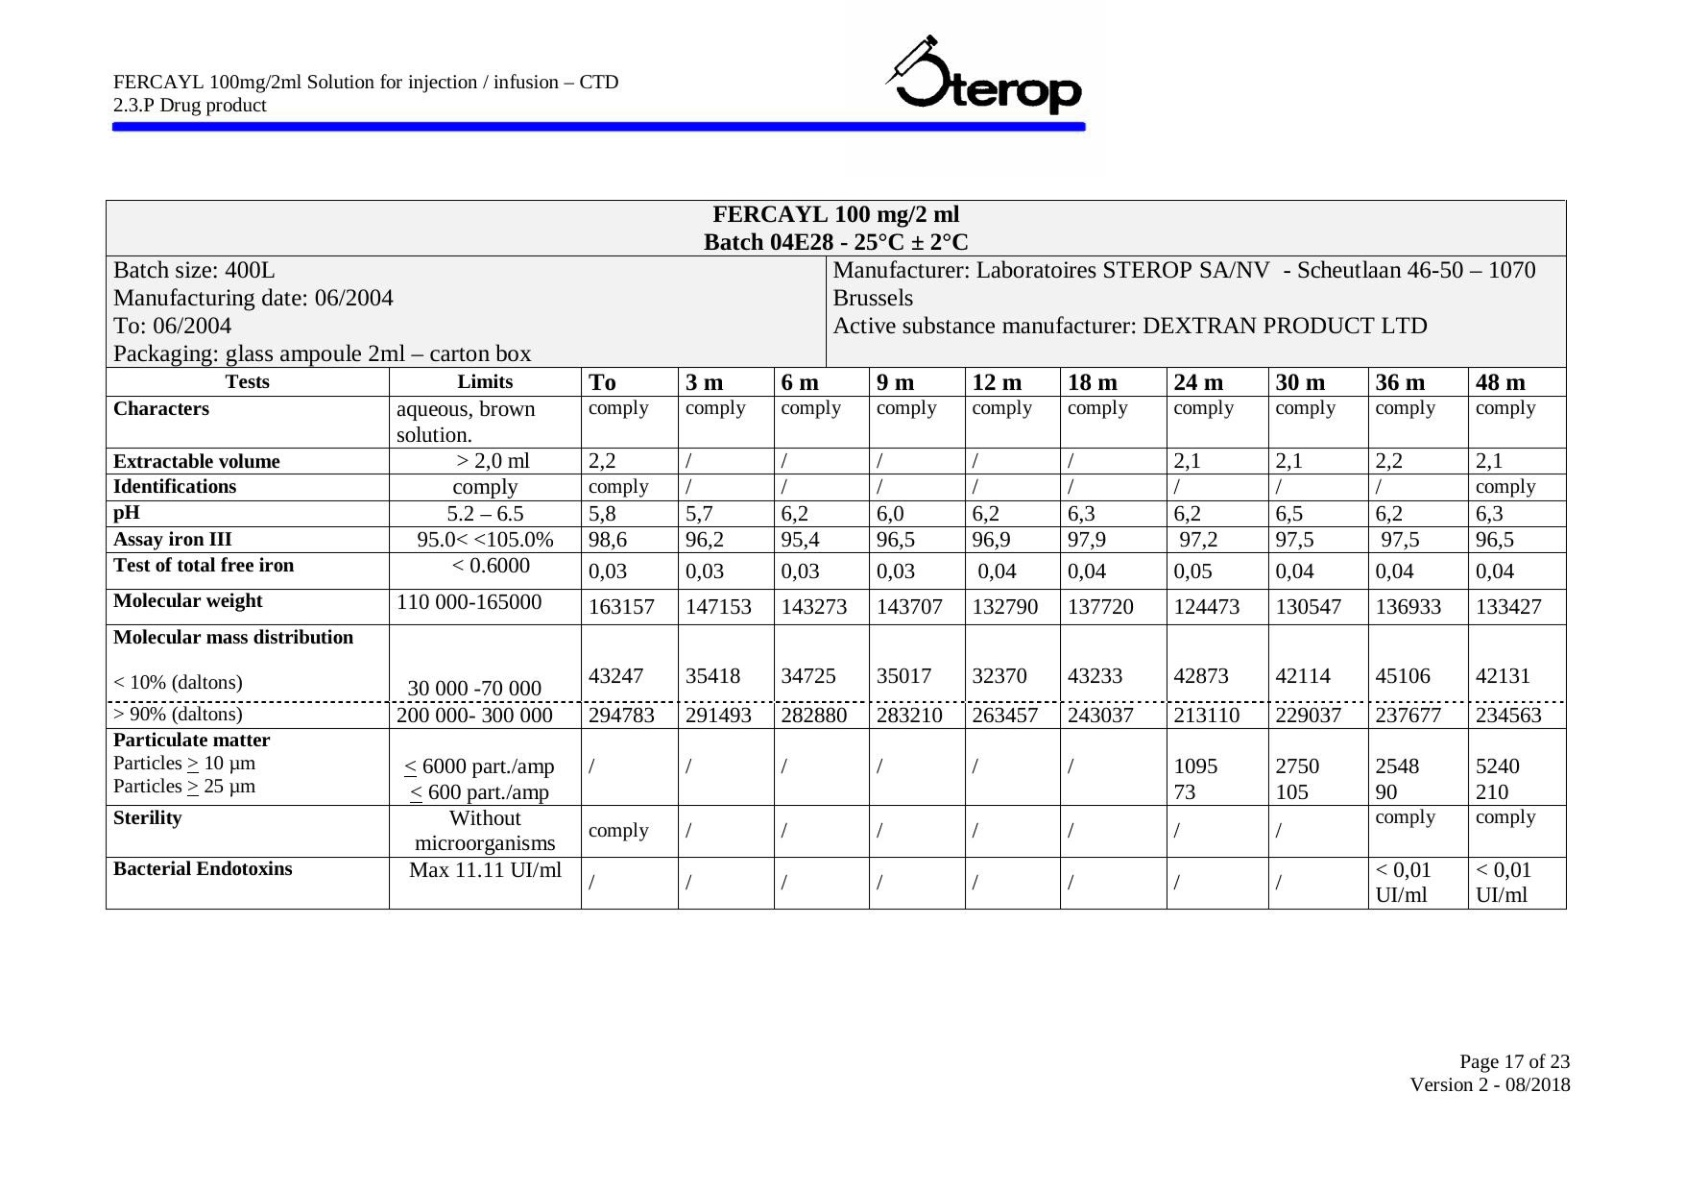merged_cells: (104, 198, 1568, 910)
